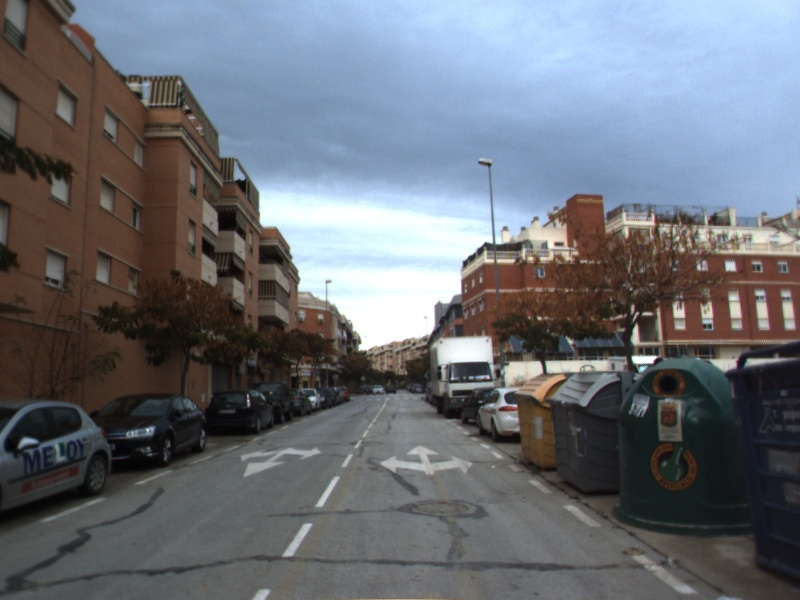STRAIGHT_LEFT_RIGHT: (378, 442, 475, 476)
